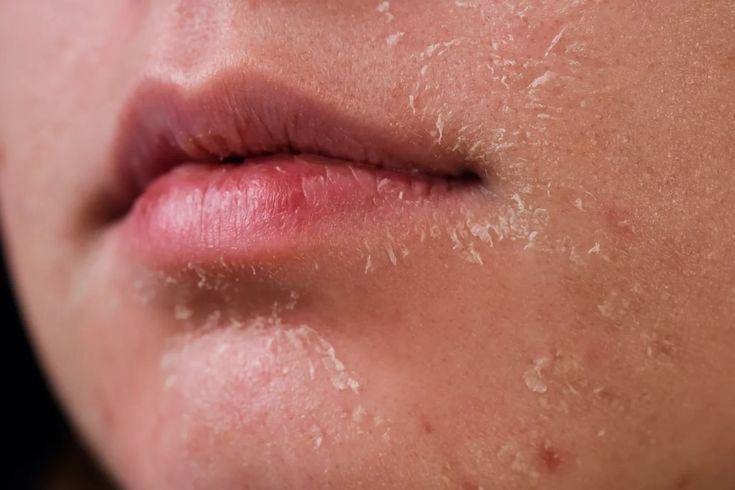Dry-Skin: (391, 56, 519, 145), (180, 333, 304, 414), (519, 342, 590, 408), (445, 207, 519, 262), (544, 49, 620, 100), (568, 200, 651, 240), (369, 16, 420, 49)
